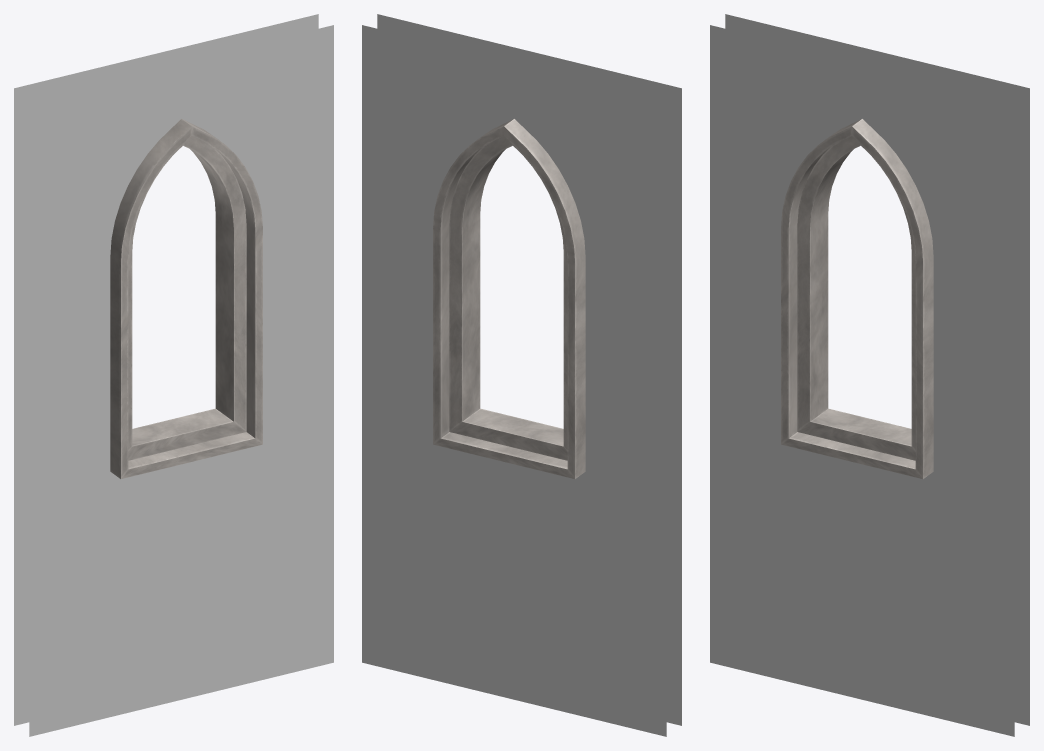
The model's file is Wall_D_A.fbx.
3 renders of one model, left to right at view 1: azimuth 30°, elevation 25°; view 2: azimuth 150°, elevation 25°; view 3: azimuth 330°, elevation 25°, orthographic.
Parts seen in each view (by area): view 1: Wall_D_A; view 2: Wall_D_A; view 3: Wall_D_A.
Part boxes in pixels (x1,y1,x2,y2): Wall_D_A: [14, 14, 333, 736]; Wall_D_A: [362, 14, 681, 736]; Wall_D_A: [710, 14, 1029, 736].
Bounding box in the file's own units: 3 × 0.6115 × 6.
